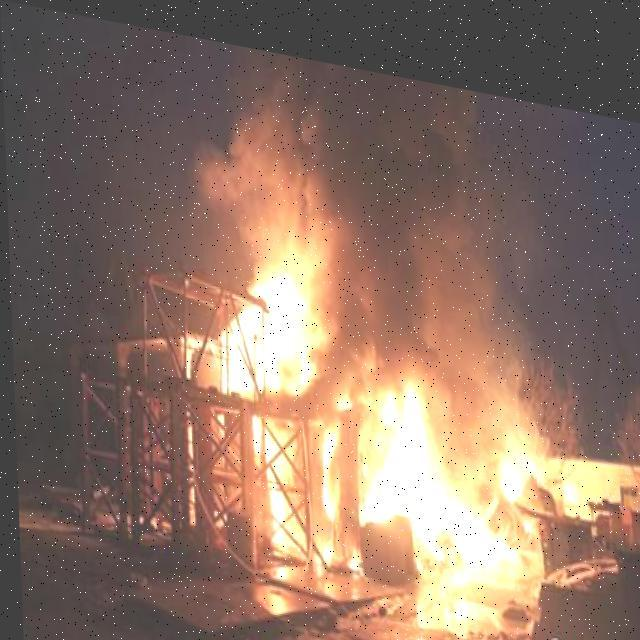Fire: (214, 252, 534, 579)
